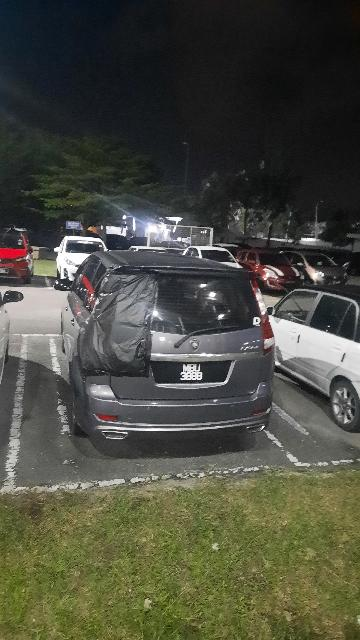License_Plate: (149, 359, 233, 385)
car: (51, 251, 281, 448), (267, 281, 360, 429)
